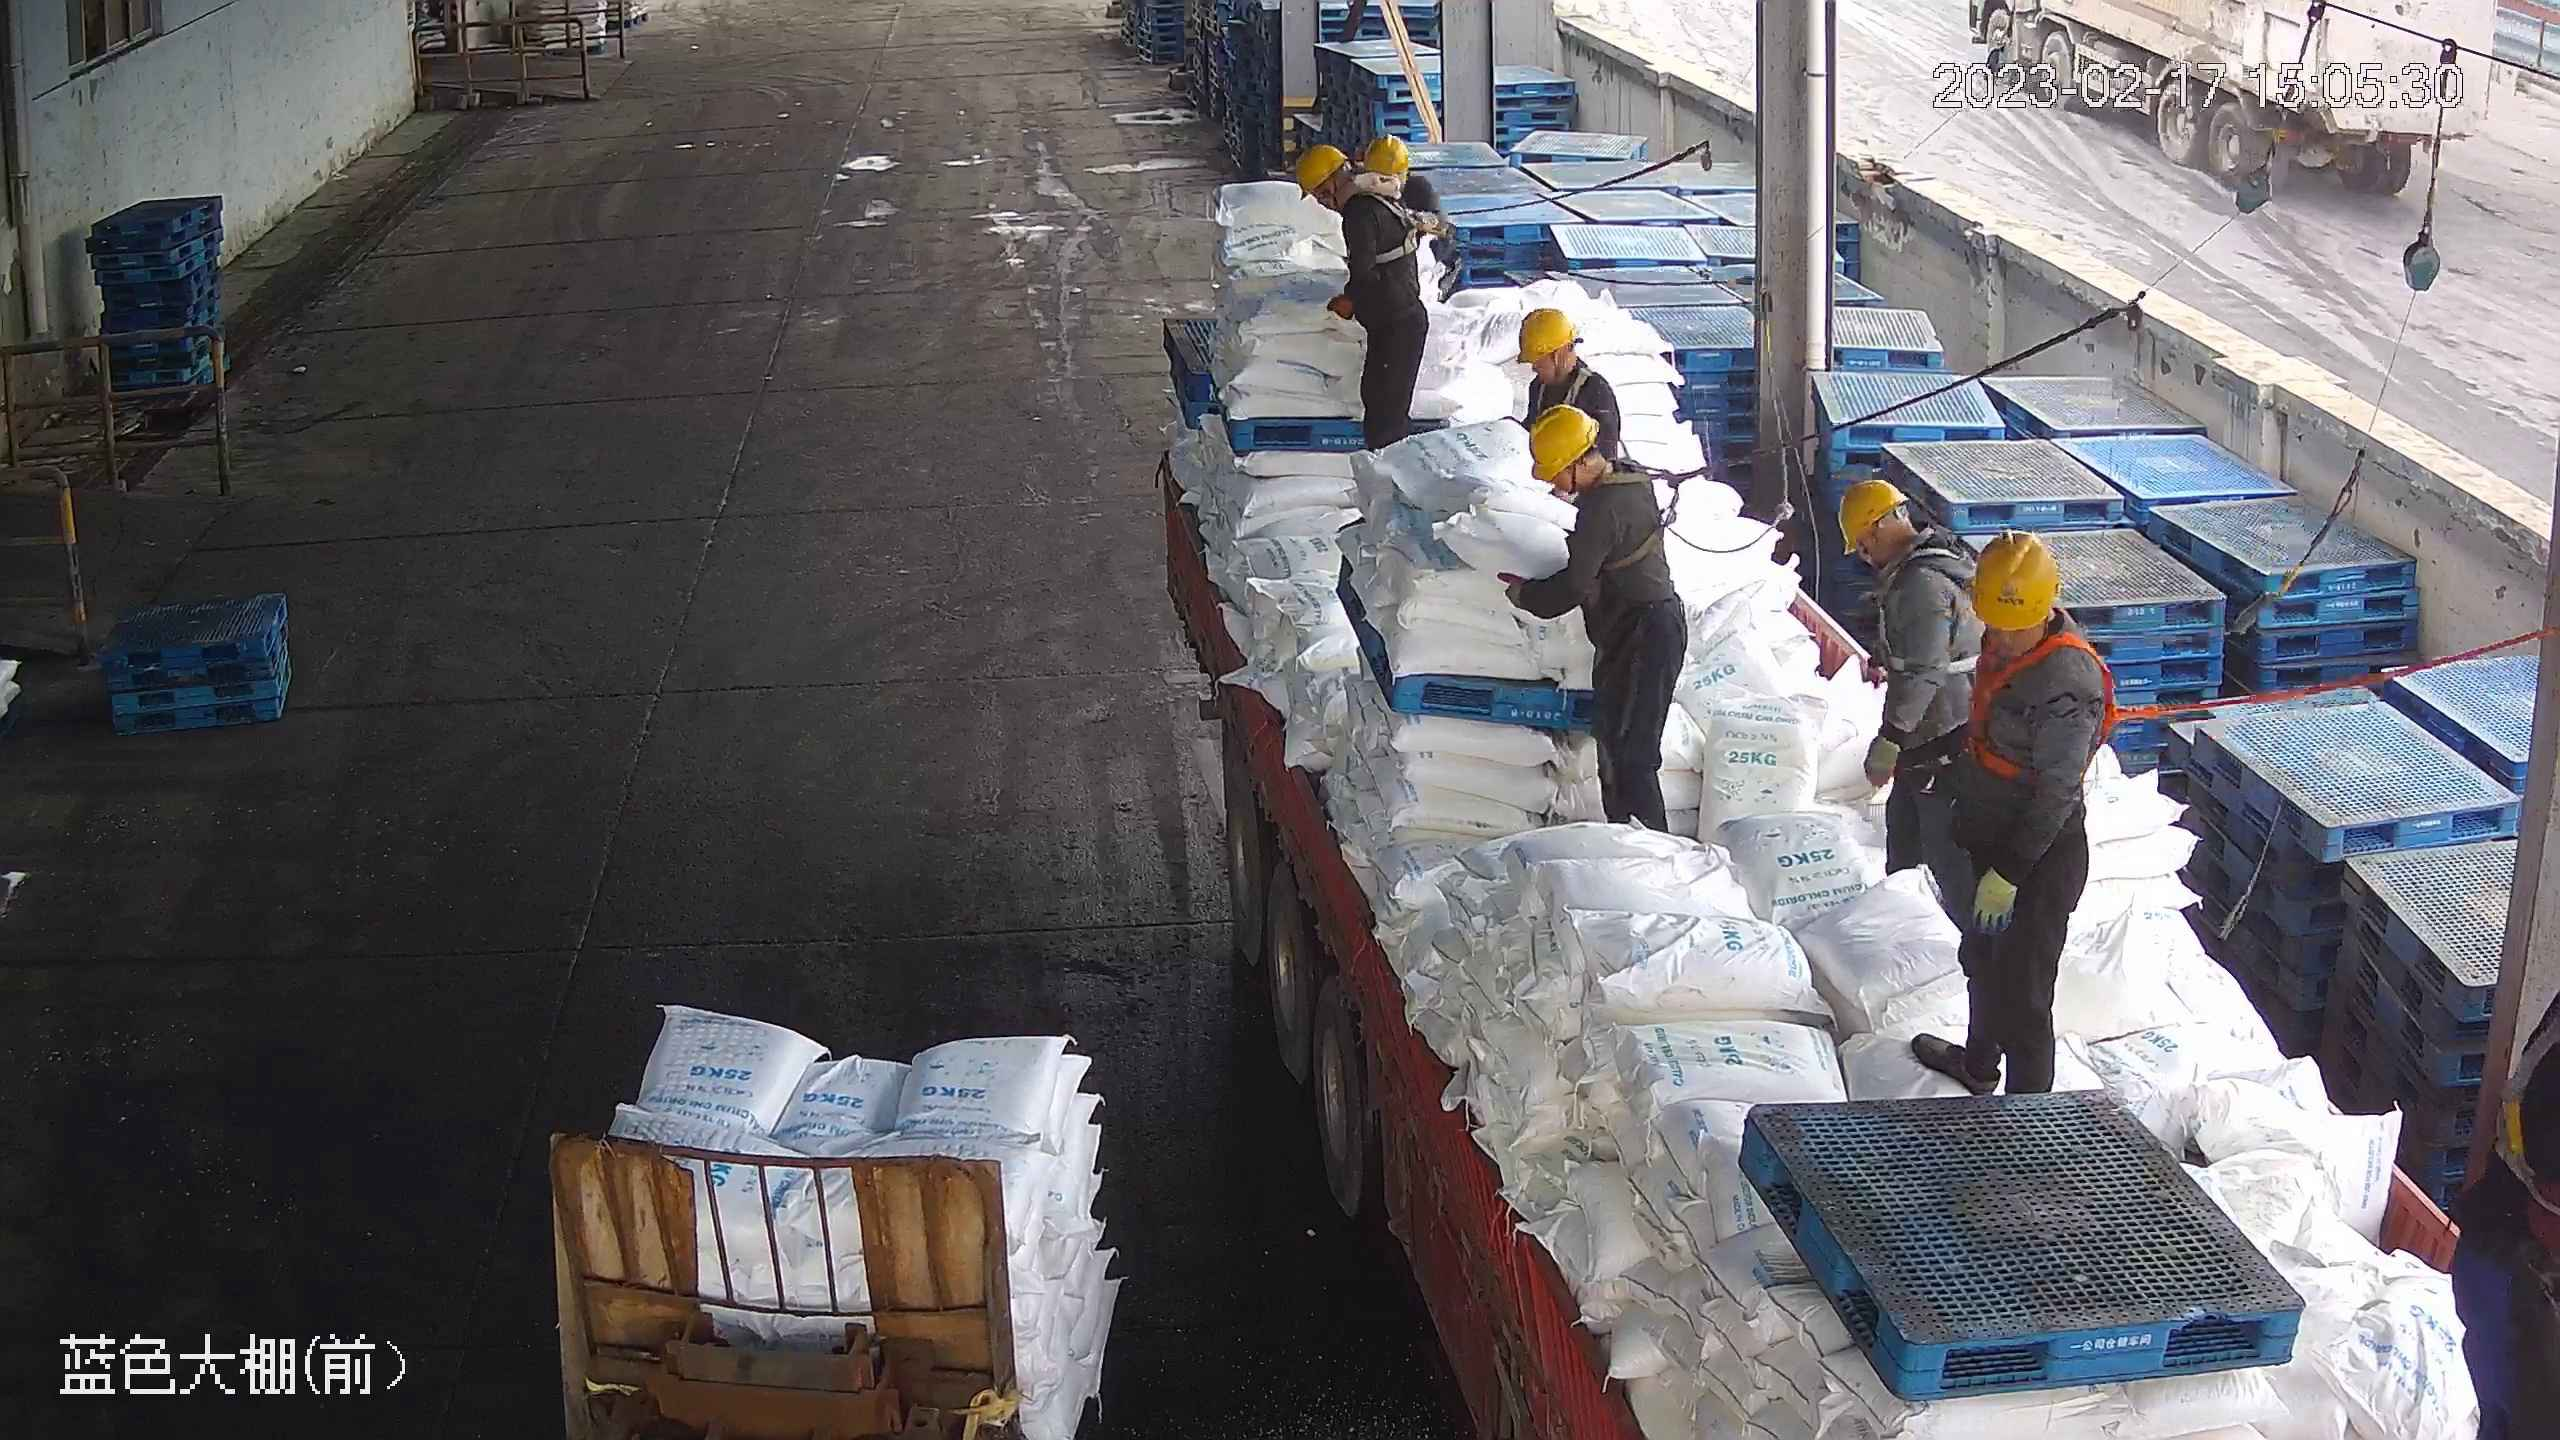belt: (1953, 619, 2129, 779), (2487, 982, 2560, 1224), (1873, 547, 1984, 676), (1585, 454, 1699, 571), (1352, 184, 1438, 270), (1530, 357, 1607, 419), (1528, 358, 1608, 416)
head: (1953, 522, 2113, 713), (1520, 402, 1668, 537), (1836, 476, 1970, 617), (1297, 138, 1417, 244), (1509, 302, 1611, 402)
helmet: (1965, 528, 2061, 631), (1523, 403, 1598, 483), (1837, 477, 1908, 552), (1515, 305, 1578, 360), (1290, 141, 1347, 199), (1360, 132, 1412, 177)
people: (1921, 526, 2110, 1106), (1497, 407, 1692, 838), (1836, 479, 1978, 919), (1300, 134, 1442, 454)
truck: (1170, 331, 2531, 1440)
